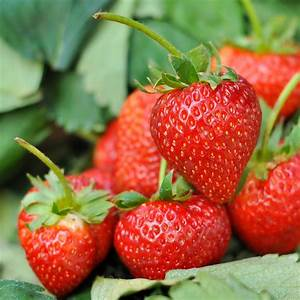Fresa: (144, 67, 265, 208), (14, 171, 125, 300), (111, 187, 234, 286)
